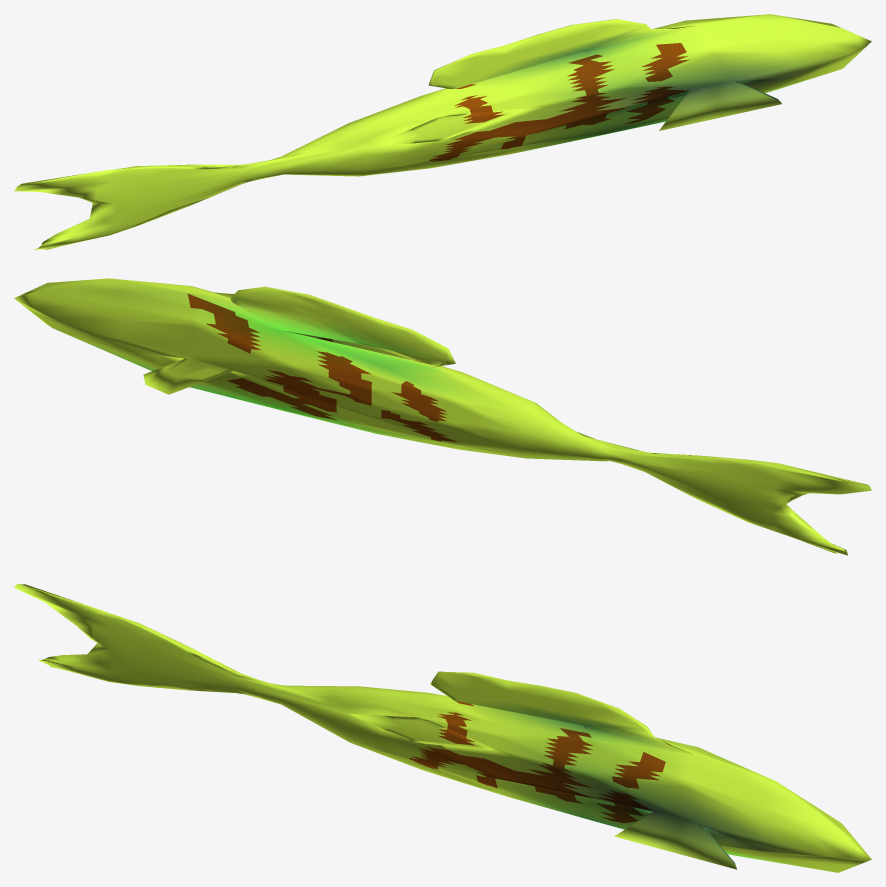
File: FWallaye.glb
The picture shows the model from 3 angles, top to bottom: view 1: azimuth 30°, elevation 25°; view 2: azimuth 150°, elevation 25°; view 3: azimuth 330°, elevation 25°; orthographic projection. The views are drawn at different scales.
Parts seen in each view (by area): view 1: fish low poly; view 2: fish low poly; view 3: fish low poly.
Boxes of the visible parts, <box> form: fish low poly: <box>14,14,871,249</box>; fish low poly: <box>14,278,871,555</box>; fish low poly: <box>14,584,871,872</box>.
Size of the model in its own units: 2.88 by 0.384 by 0.2785.
